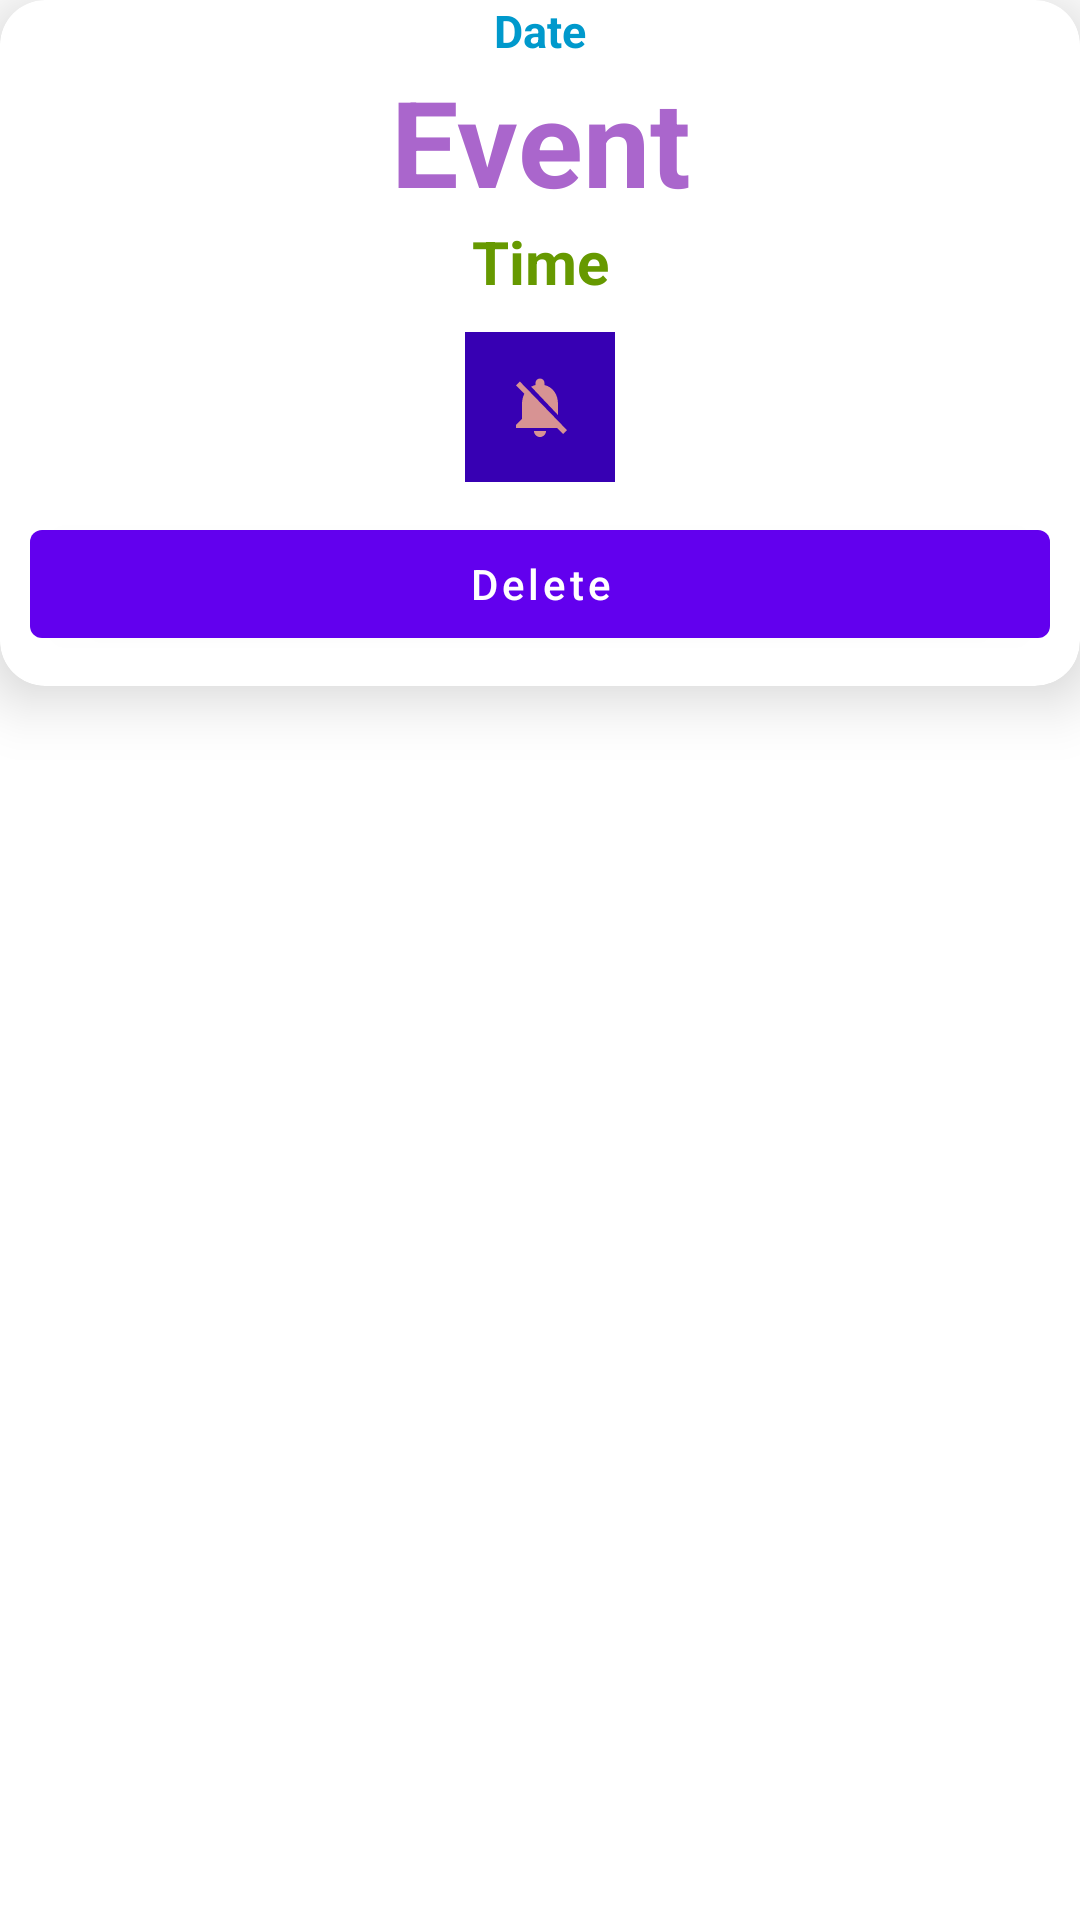

Point at icon controls on the screen. Image size 1080×1920, points as point (x, y).
not off: point (540, 407)
